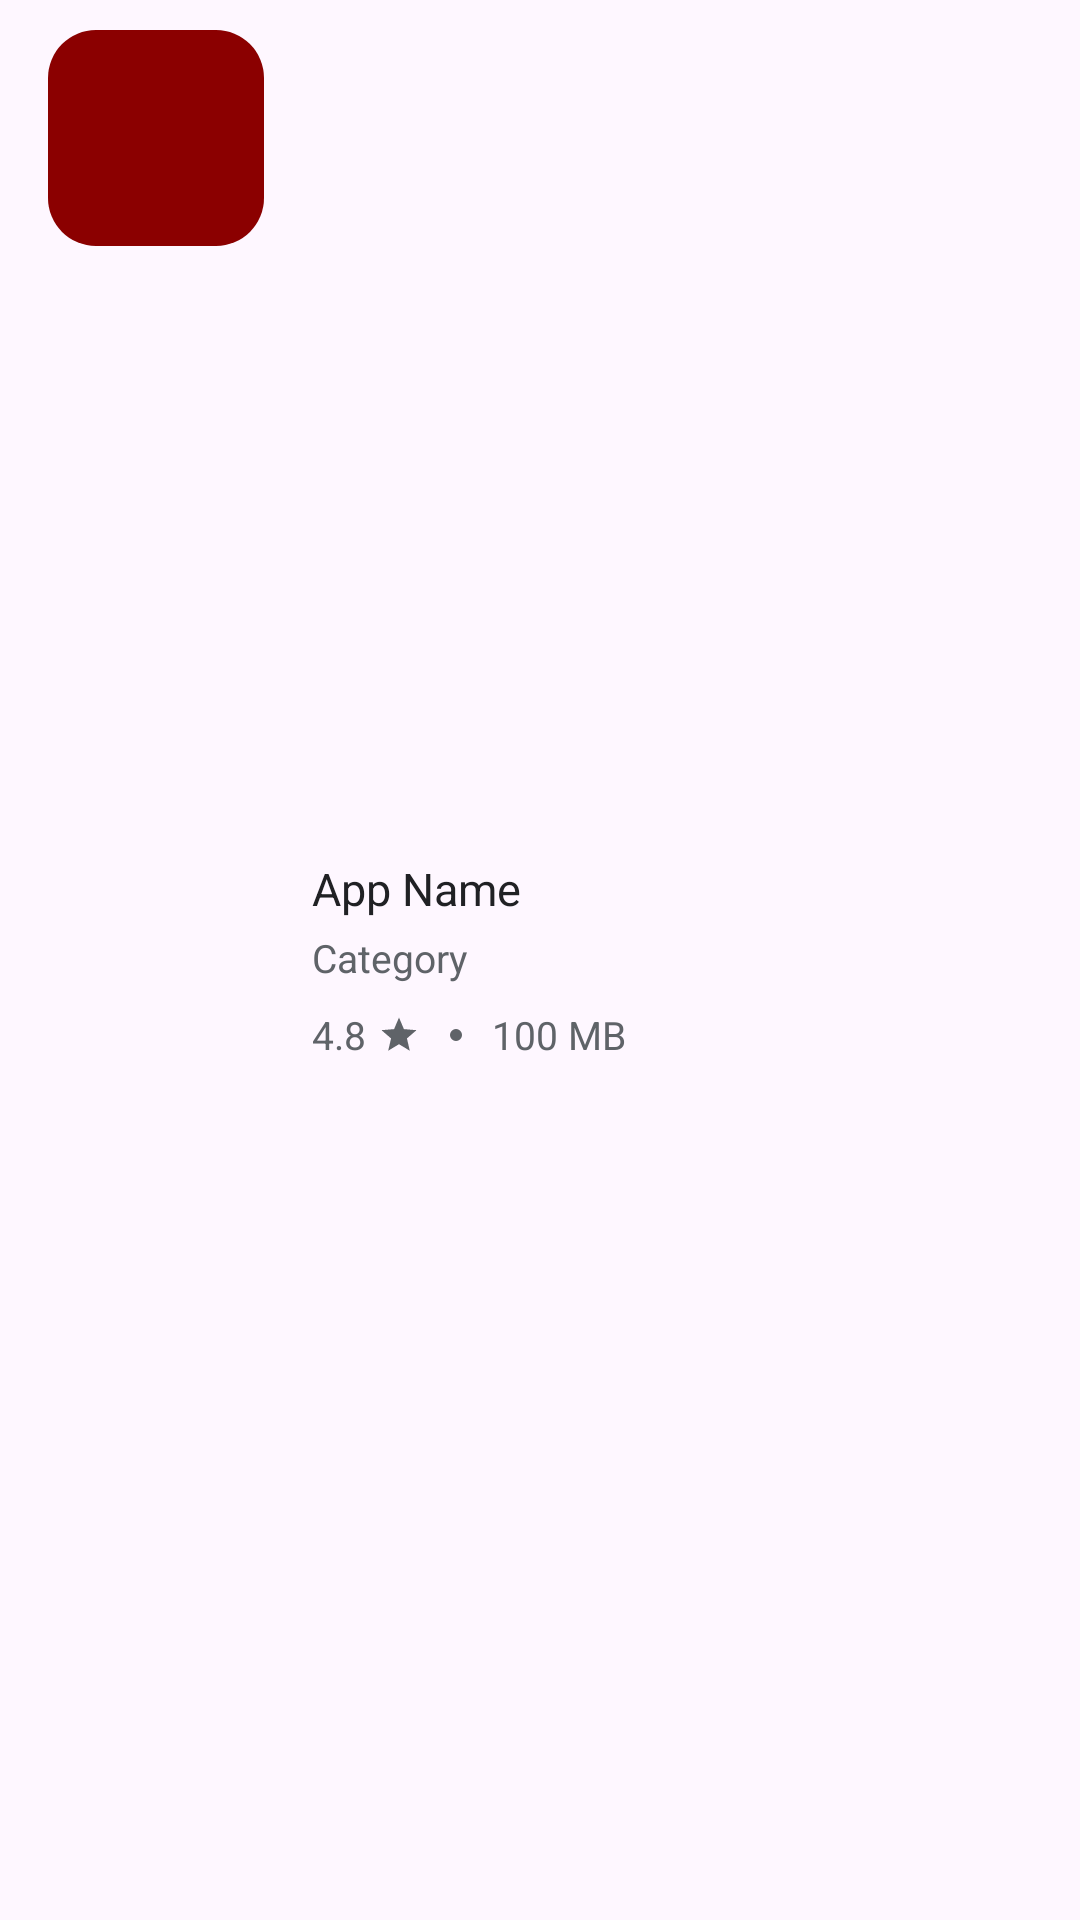

Screen size 1080x1920. Icon name, then its box in pixels as (x1, y1, x2, y2):
star: (382, 1018, 416, 1051)
